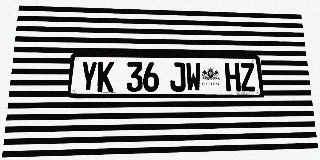3: (126, 62, 143, 92)
6: (143, 62, 159, 92)
H: (225, 63, 241, 91)
J: (170, 62, 186, 92)
K: (97, 62, 114, 92)
W: (185, 62, 202, 91)
Y: (80, 61, 98, 92)
Z: (239, 63, 256, 91)
